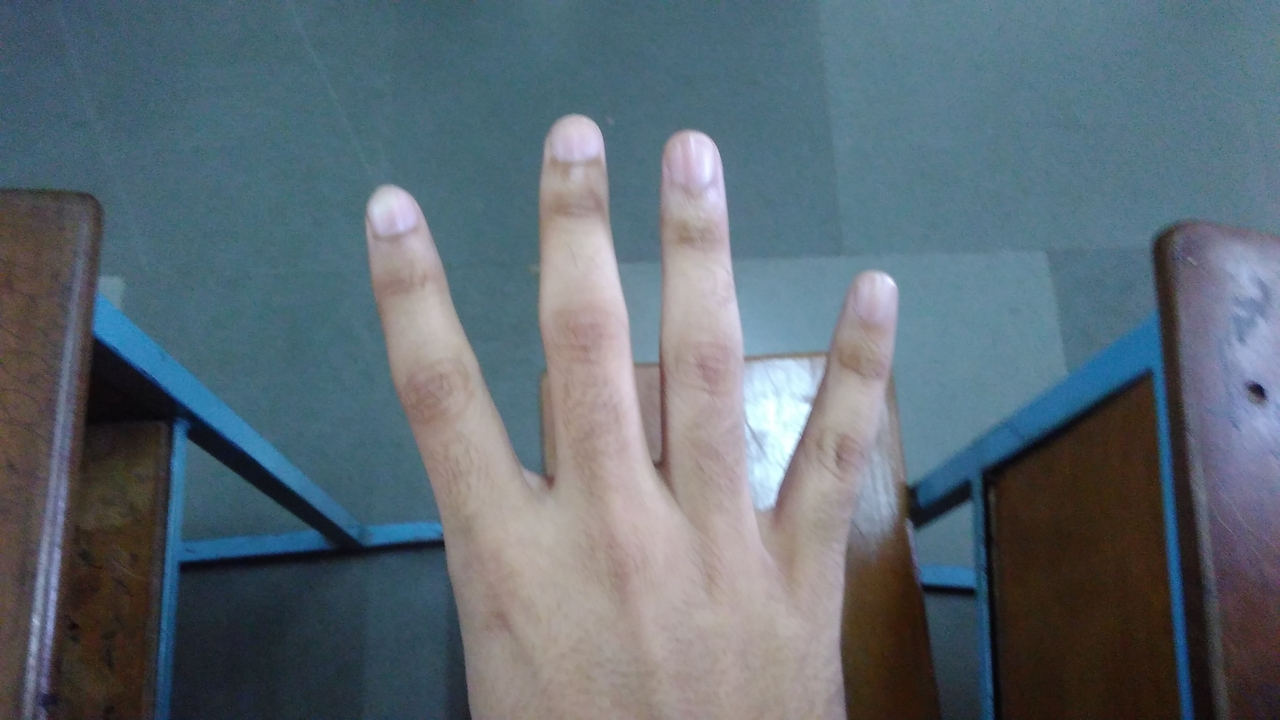fingertip: (354, 180, 428, 250), (654, 130, 728, 196), (532, 116, 606, 182), (842, 266, 908, 328)
